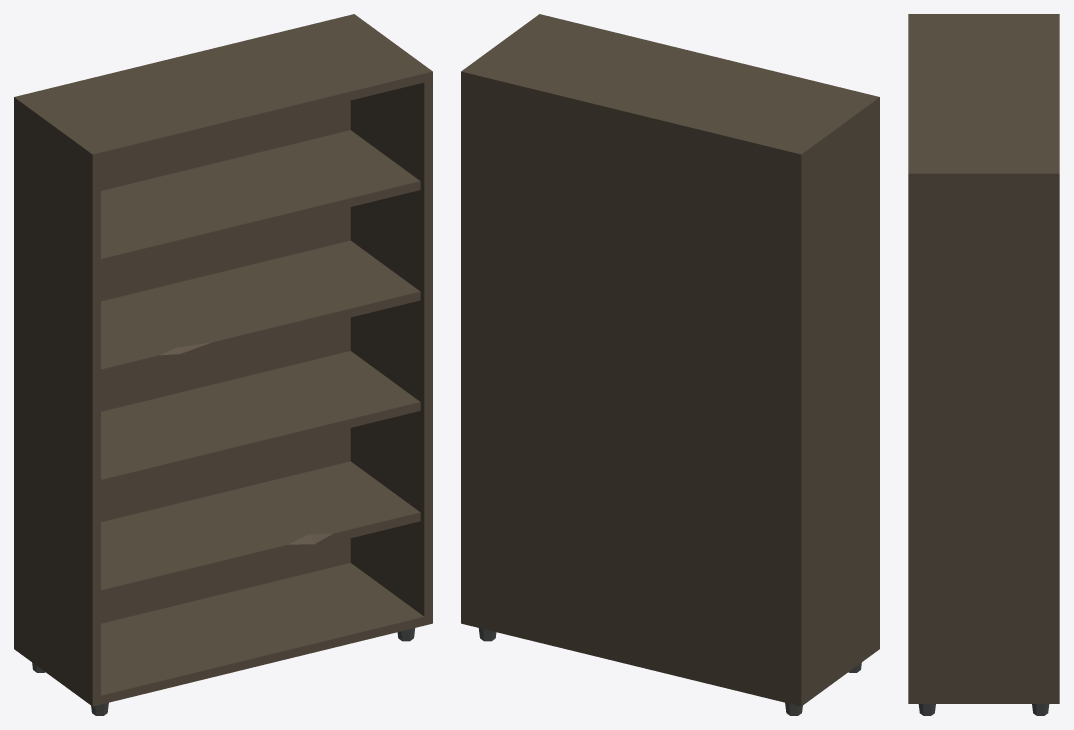
File: SM_Props_Interior_House_Room_Shelf_BookShelf_01.fbx
The picture shows the model from 3 angles, left to right: view 1: azimuth 30°, elevation 25°; view 2: azimuth 150°, elevation 25°; view 3: azimuth 270°, elevation 25°; orthographic projection. The views are drawn at different scales.
Parts seen in each view (by area): view 1: SM_Props_Interior_House_Room_Shelf_BookShelf_01; view 2: SM_Props_Interior_House_Room_Shelf_BookShelf_01; view 3: SM_Props_Interior_House_Room_Shelf_BookShelf_01.
Part boxes in pixels (<box>): SM_Props_Interior_House_Room_Shelf_BookShelf_01: <box>14,14,432,715</box>; SM_Props_Interior_House_Room_Shelf_BookShelf_01: <box>461,14,879,715</box>; SM_Props_Interior_House_Room_Shelf_BookShelf_01: <box>908,14,1059,715</box>.
Size of the model in its own units: 100 by 160 by 40.
